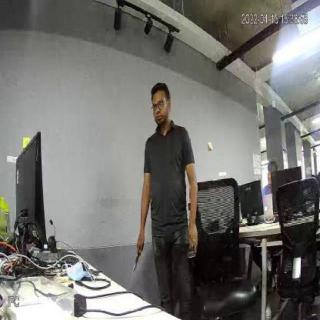knife: (133, 246, 143, 278)
